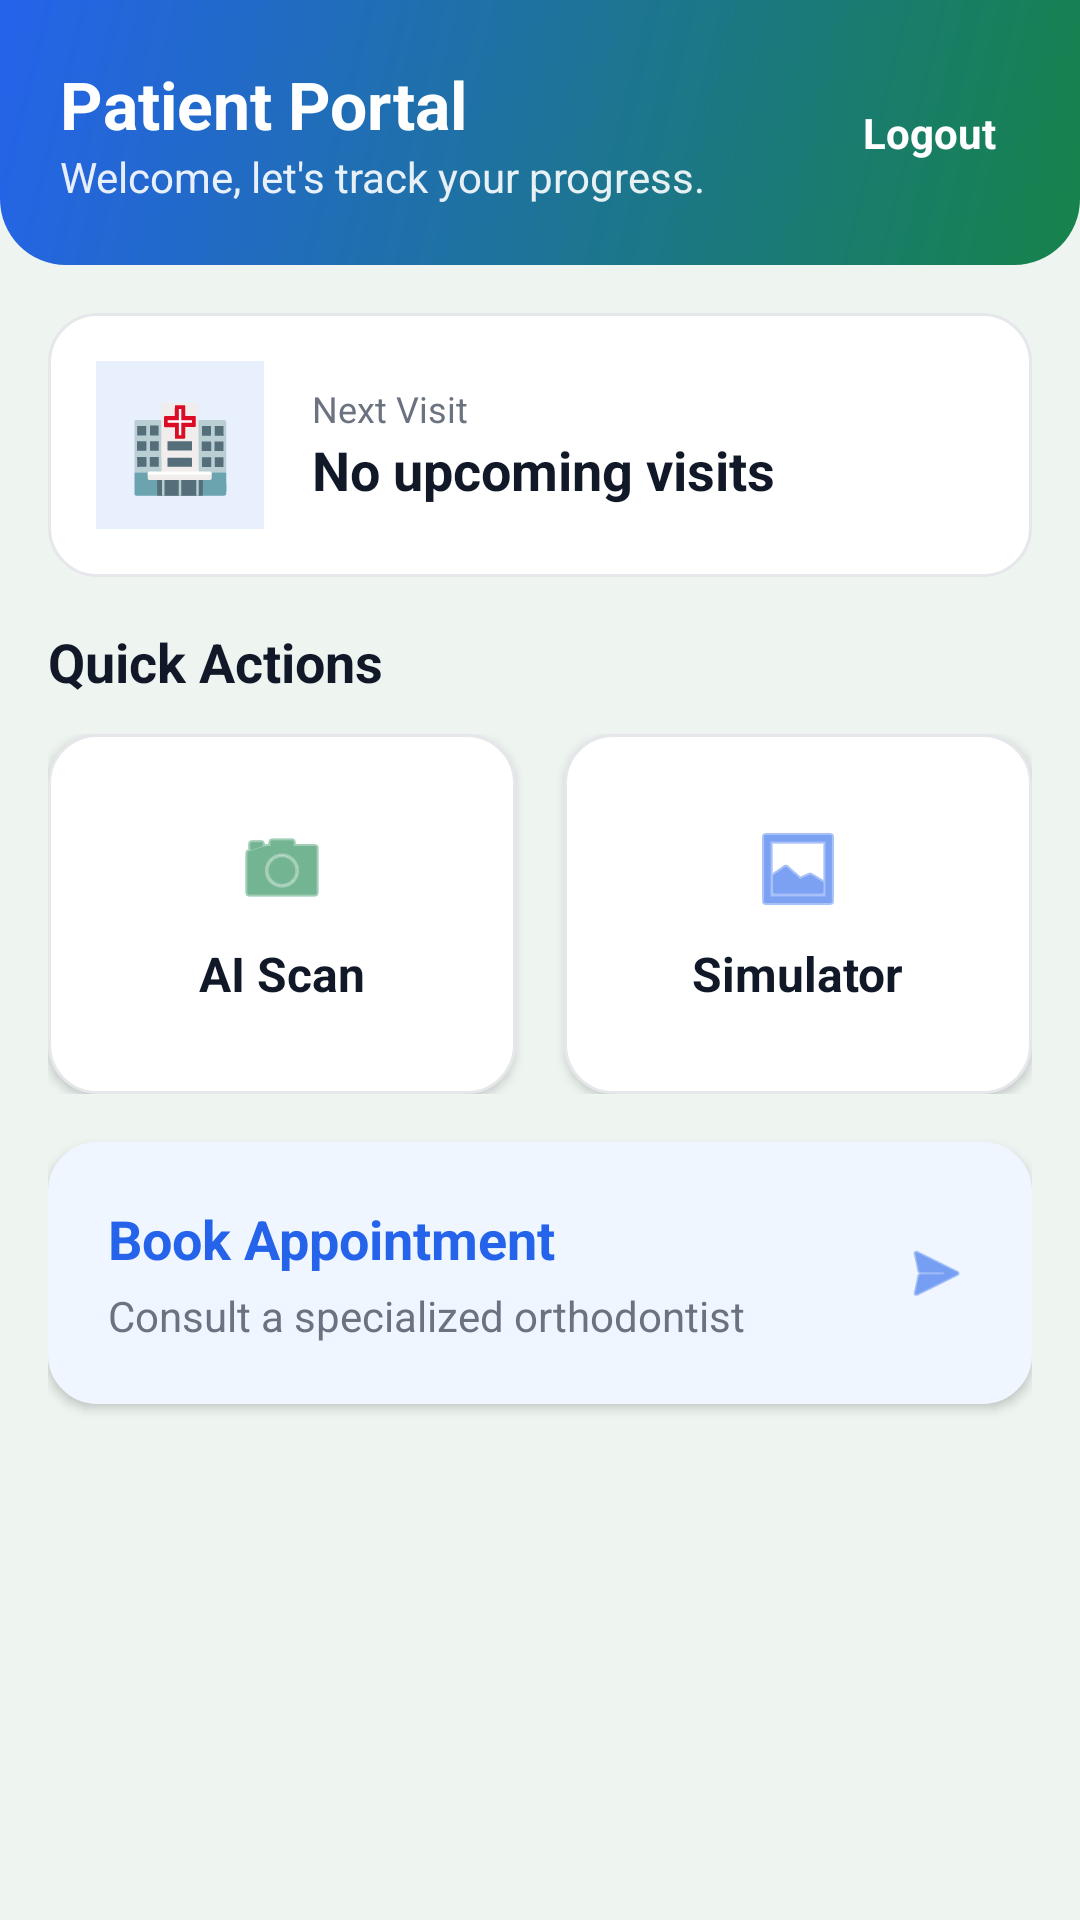

Icons on this 1080w x 1920h Android screen, each with the point to tap as point (x, y):
camera: point (282, 867)
gallery: point (798, 869)
send: point (937, 1273)
